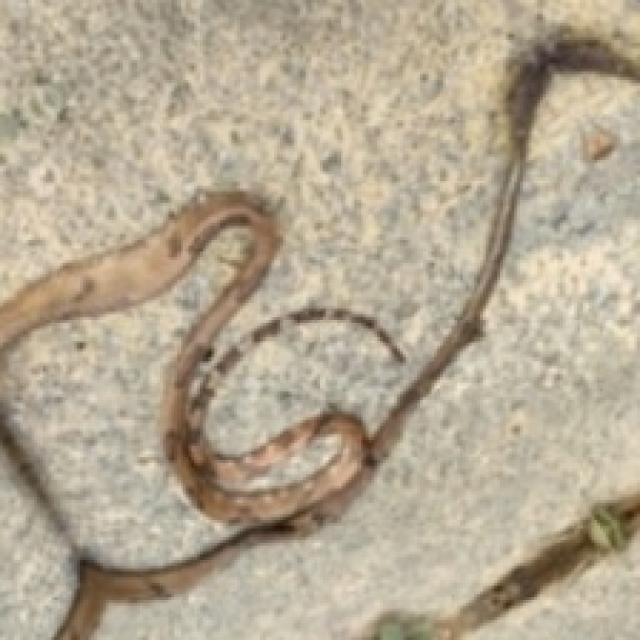dog-toothed cat snake: (0, 35, 639, 639)
